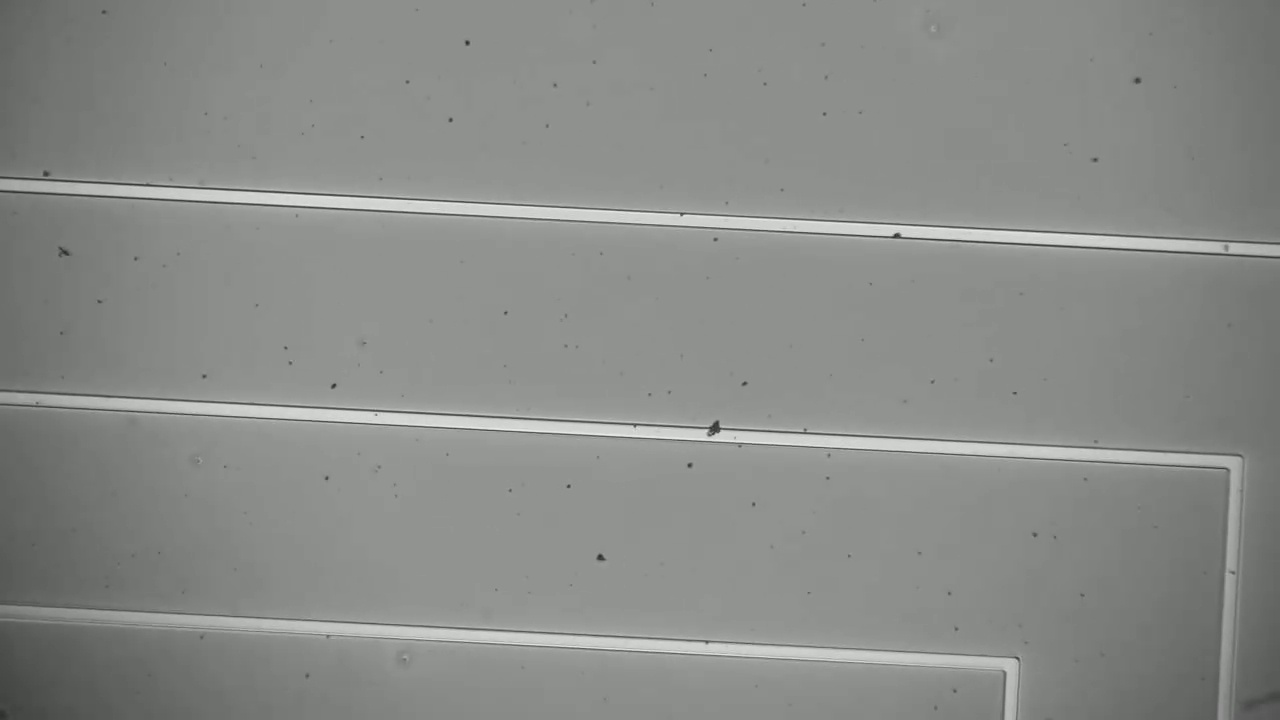stains_enbedded: (699, 415, 724, 453)
